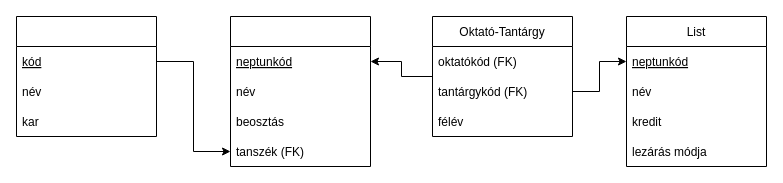
Image size: 783x183. Some labels were removed from this diagram. Each missing label, with the box of its shape:
Oktató: (230, 16, 370, 166)
Tanszék: (16, 16, 156, 136)
